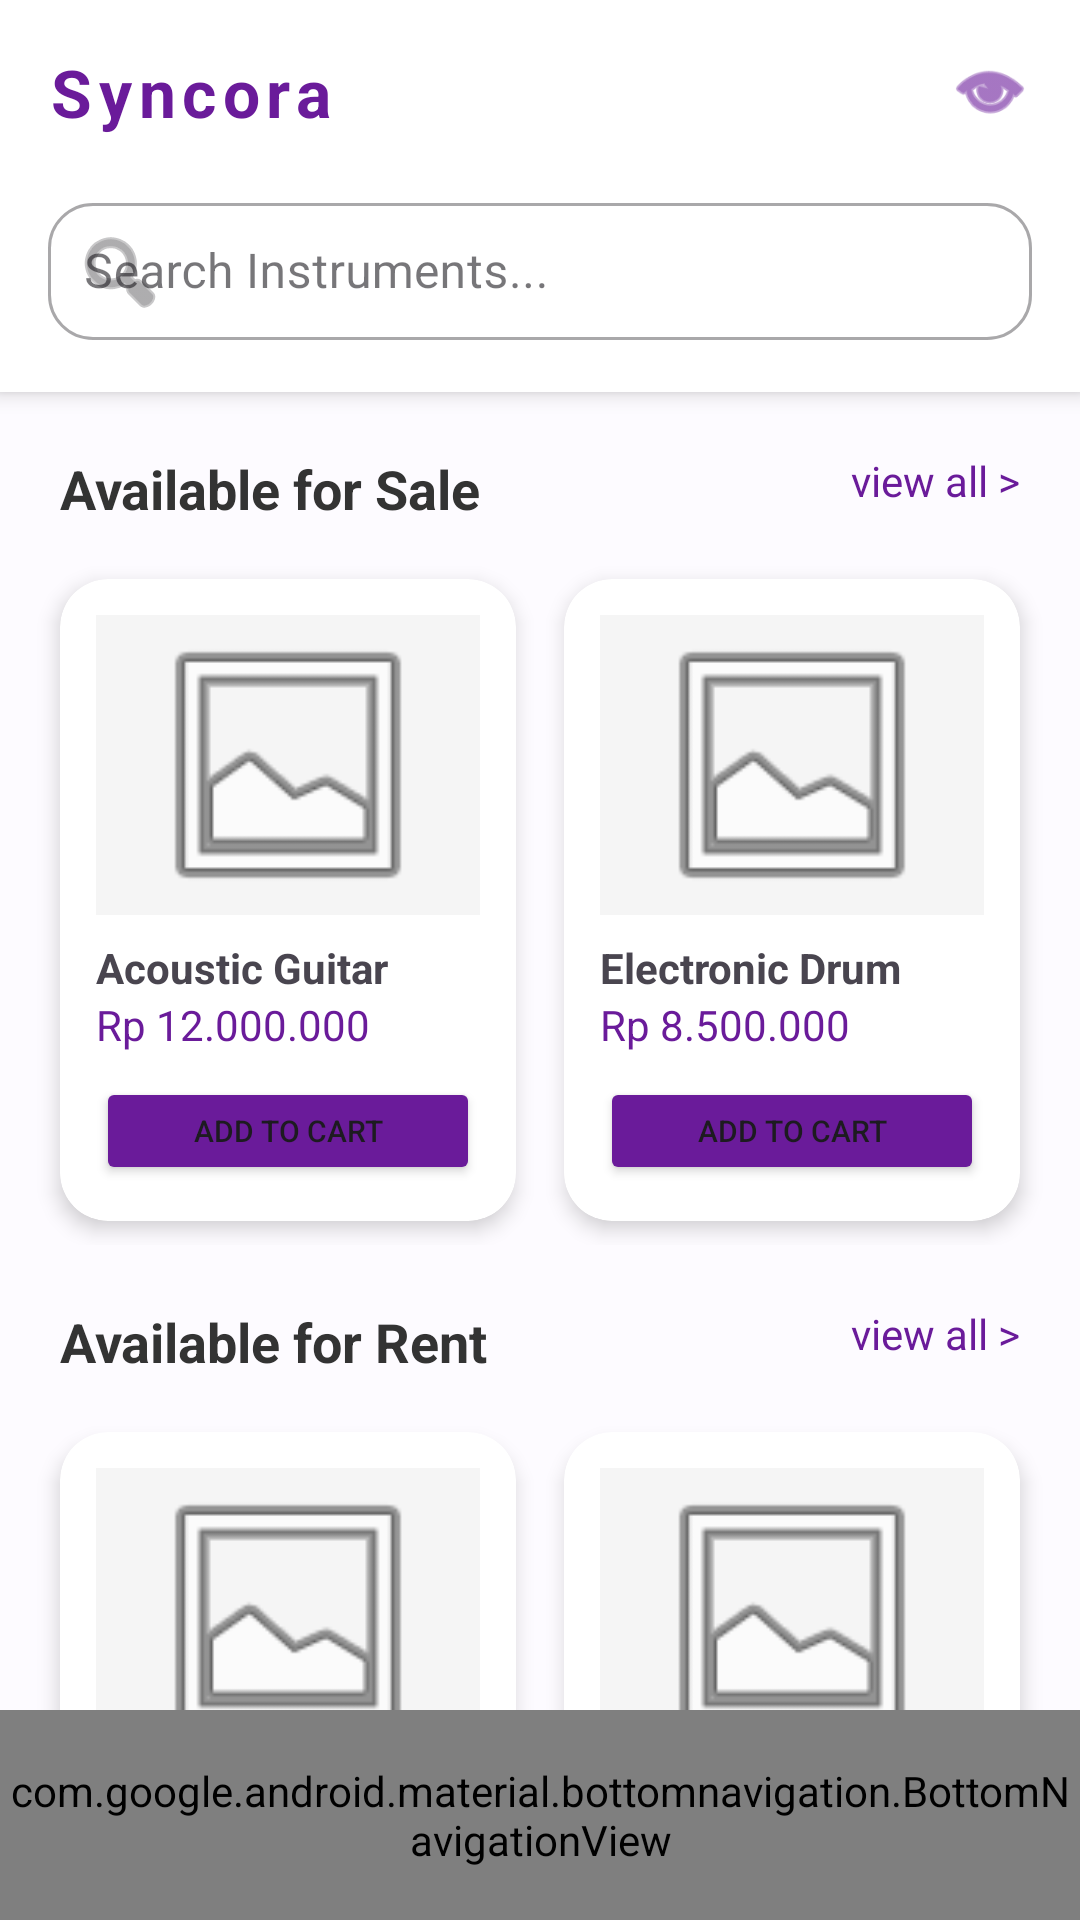

Icon click points for this 1080px×1920px phone screenshot, format point (x, y):
view: point (990, 92)
